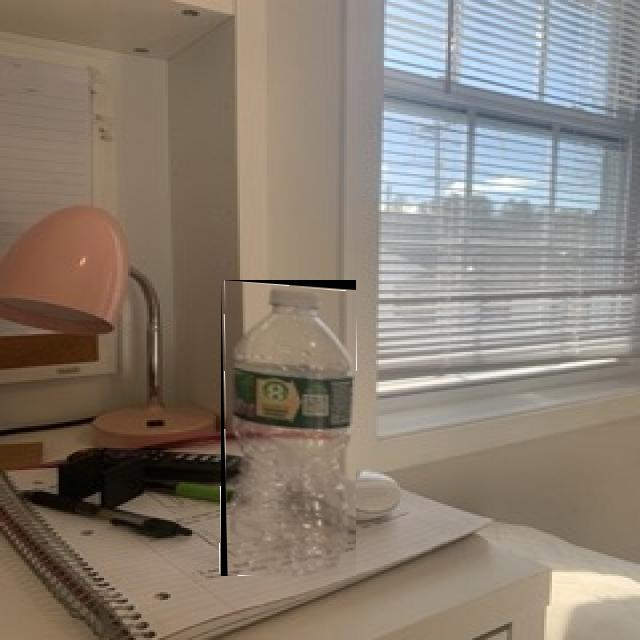water_bottle: (221, 280, 356, 576)
